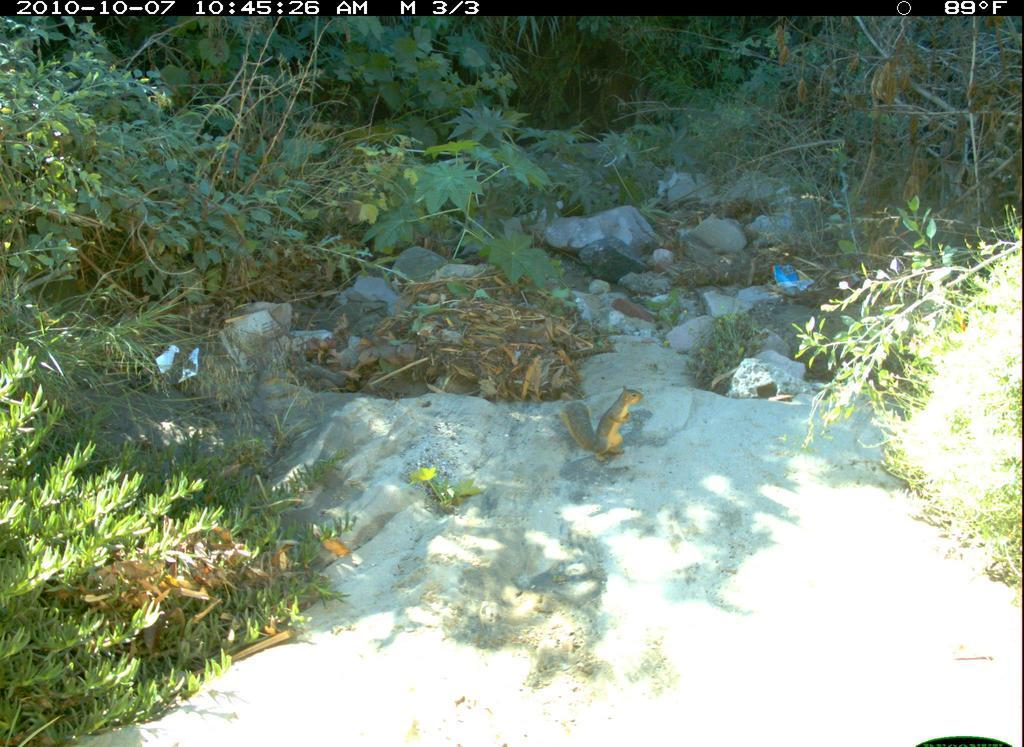squirrel: (551, 376, 666, 478)
